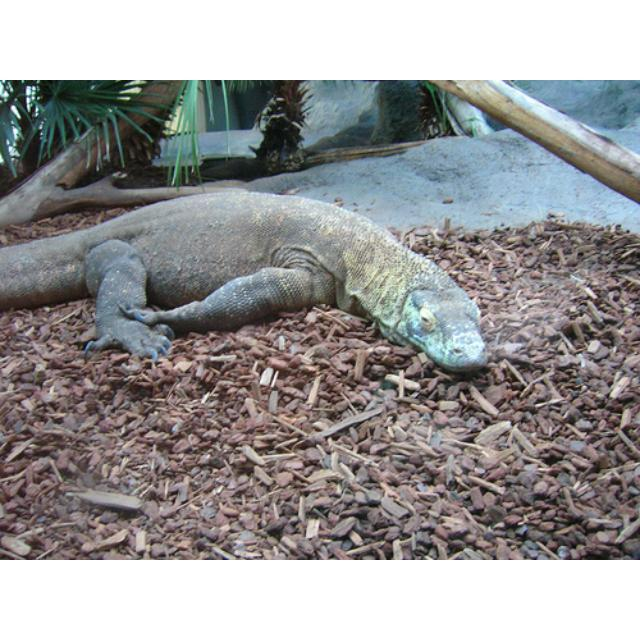KomodoDragon: (4, 188, 489, 373)
